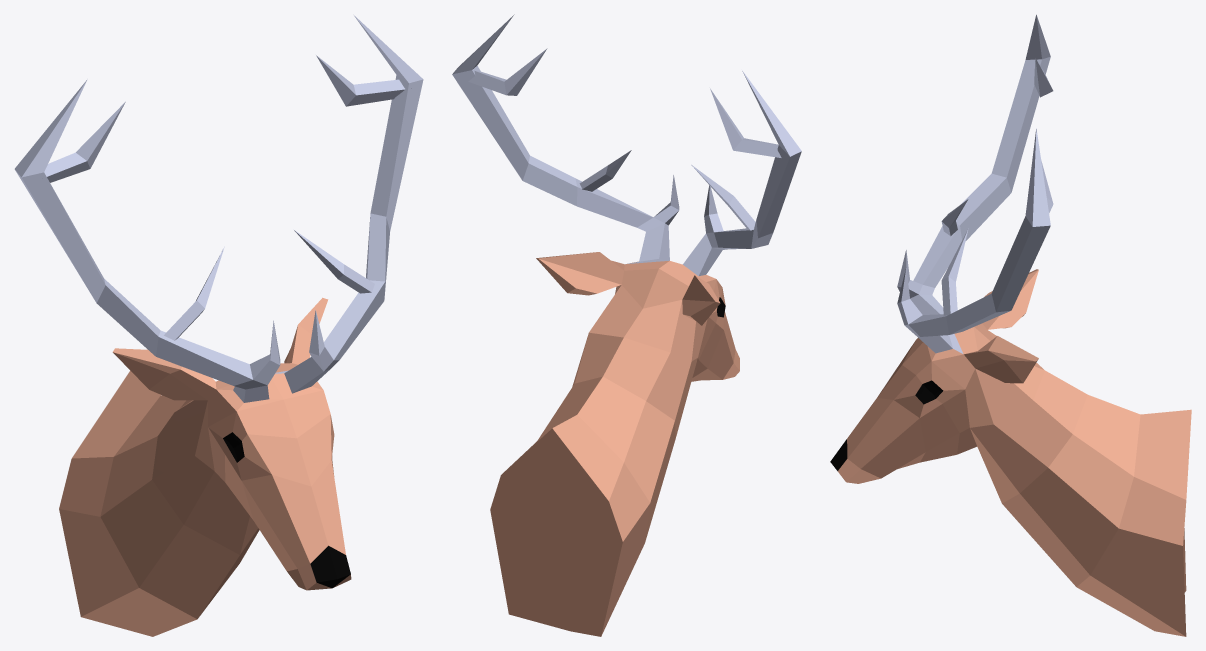
The model's file is deerhead.fbx.
3 renders of one model, left to right at view 1: azimuth 30°, elevation 25°; view 2: azimuth 150°, elevation 25°; view 3: azimuth 270°, elevation 25°, orthographic. The views are drawn at different scales.
Visible parts, largest first — view 1: deer; view 2: deer; view 3: deer.
Boxes of the visible parts, bbox=[...] form: deer: bbox=[14, 15, 423, 636]; deer: bbox=[452, 14, 801, 636]; deer: bbox=[830, 14, 1191, 636].
Size of the model in its own units: 99.34 by 151 by 88.33.
